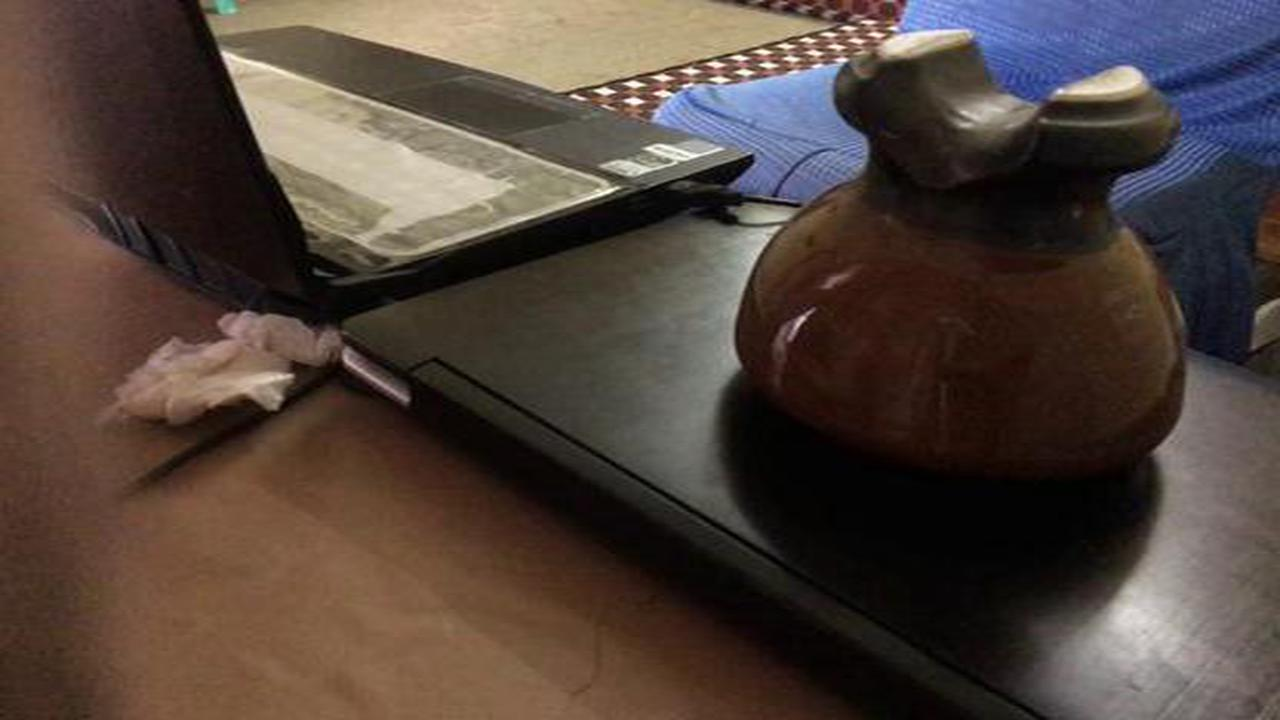insulator_pin: (711, 4, 1225, 520)
